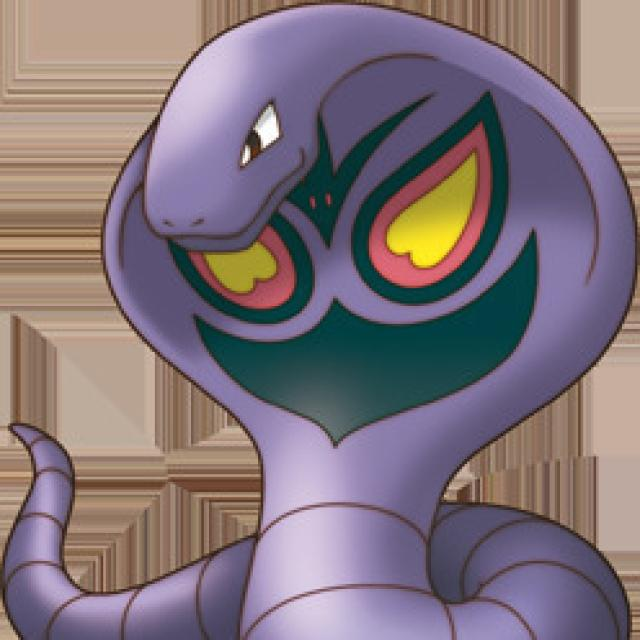Arbok: (114, 21, 626, 606)
